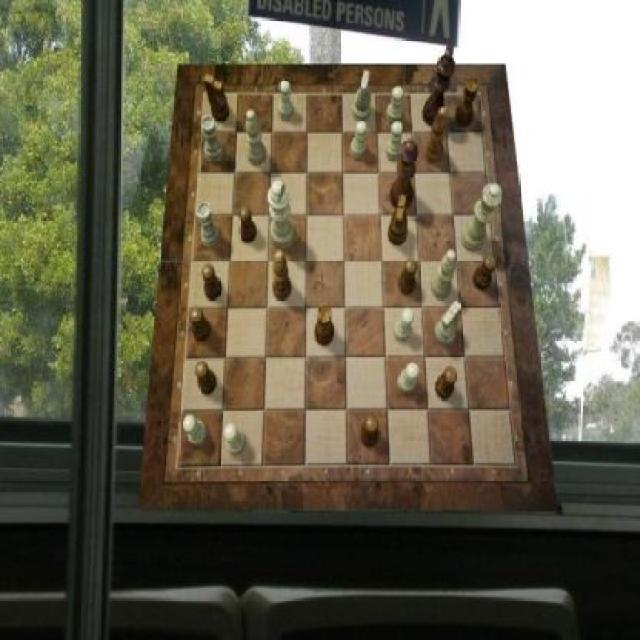bishop: (424, 106, 448, 164), (272, 250, 292, 302)
black-bishop: (422, 45, 454, 127)
black-king: (206, 74, 231, 121), (388, 196, 408, 247)
black-knight: (474, 256, 497, 292), (435, 368, 458, 402), (189, 308, 212, 342), (203, 263, 223, 301), (398, 258, 418, 294), (196, 362, 217, 396), (239, 206, 256, 242), (360, 417, 379, 449)
black-pawn: (391, 140, 420, 212)
black-queen: (455, 77, 480, 128), (314, 303, 334, 345)
black-rook: (432, 251, 457, 300), (246, 110, 267, 166)
white-bishop: (269, 180, 297, 251)
white-king: (436, 301, 462, 347), (354, 71, 371, 123)
white-knight: (225, 423, 248, 457), (183, 414, 207, 446), (386, 123, 404, 162), (350, 122, 368, 160), (397, 363, 419, 394), (394, 308, 414, 342), (278, 80, 294, 122), (388, 86, 404, 124)
white-pawn: (460, 185, 502, 252)
white-queen: (197, 202, 221, 248), (202, 117, 224, 165)
